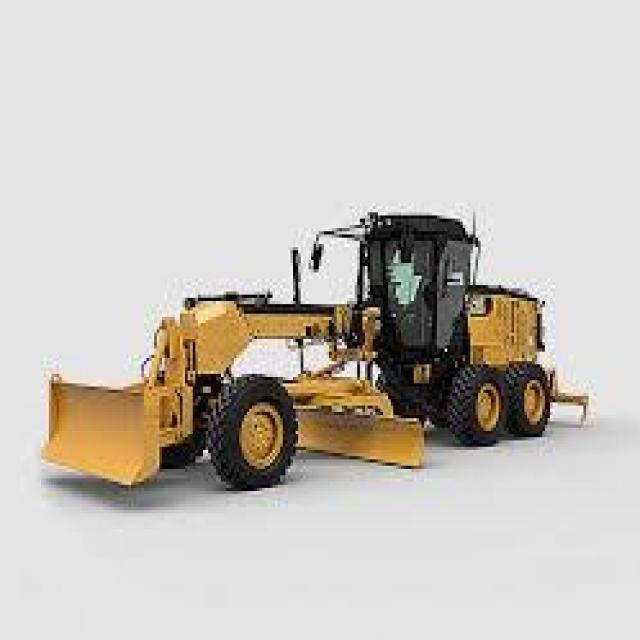Grader: (15, 216, 612, 529)
